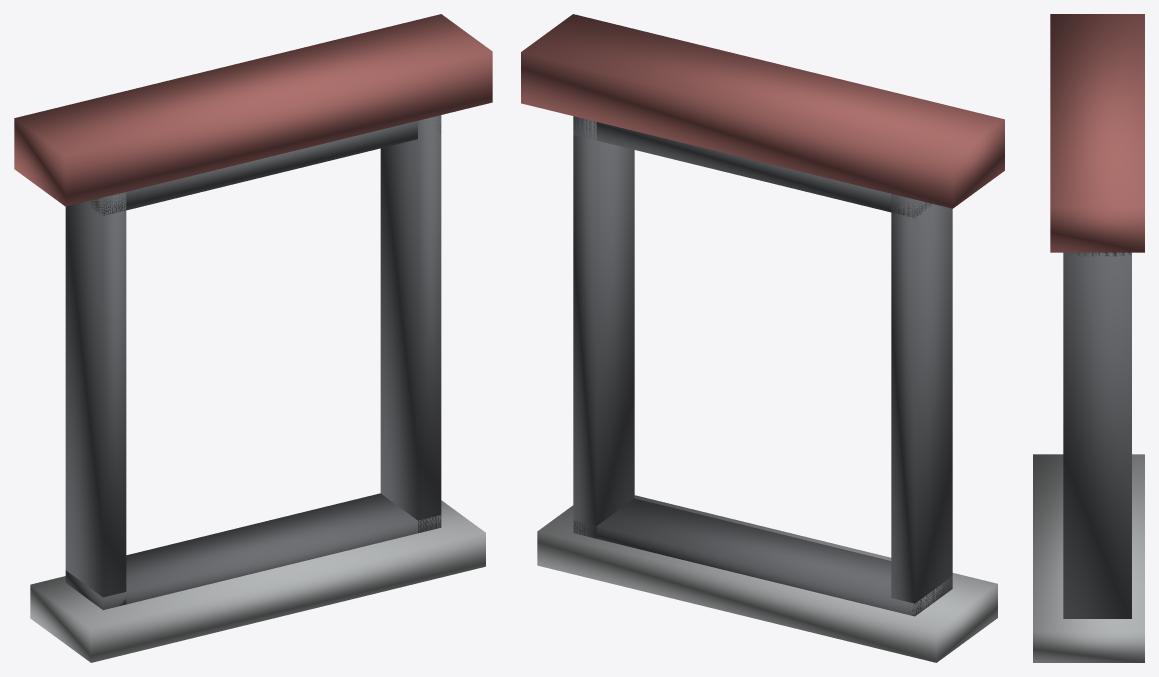
Rendered from egress_window_brick_w72_h90_s72_d16.glb.
The picture shows the model from 3 angles, left to right: view 1: azimuth 30°, elevation 25°; view 2: azimuth 150°, elevation 25°; view 3: azimuth 270°, elevation 25°; orthographic projection. The views are drawn at different scales.
Visible parts, largest first — view 1: world; view 2: world; view 3: world.
Boxes of the visible parts, x1,y1,x2,y2 form: world: [14, 14, 492, 662]; world: [521, 14, 1004, 662]; world: [1033, 14, 1144, 662].
Size of the model in its own units: 1.06 by 1.19 by 0.26.
